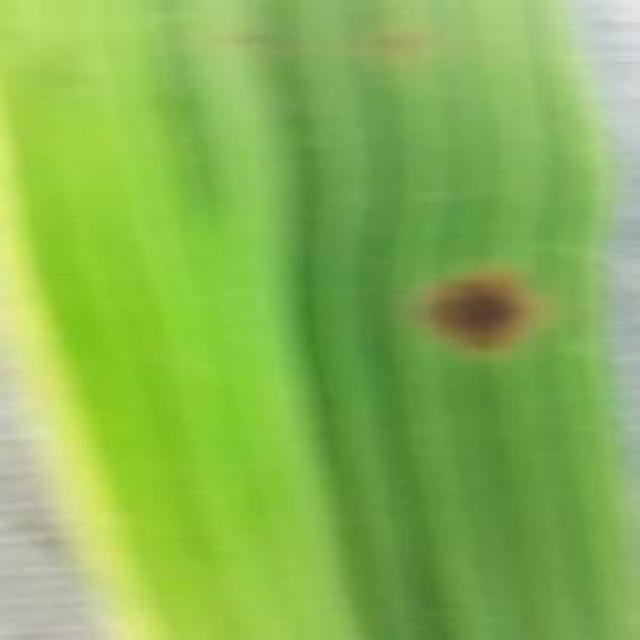brownspots: (420, 266, 546, 354)
